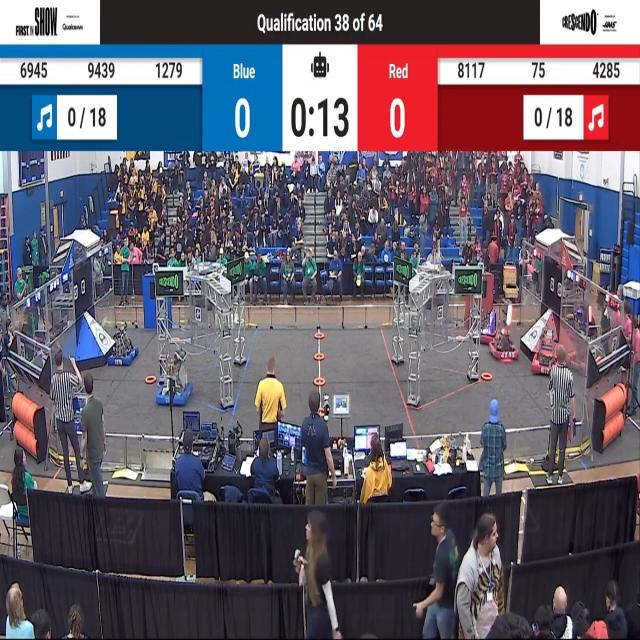Robot: (52, 376, 98, 437), (157, 346, 196, 411), (528, 318, 562, 382), (487, 304, 518, 372), (105, 316, 139, 377), (464, 288, 499, 345)
